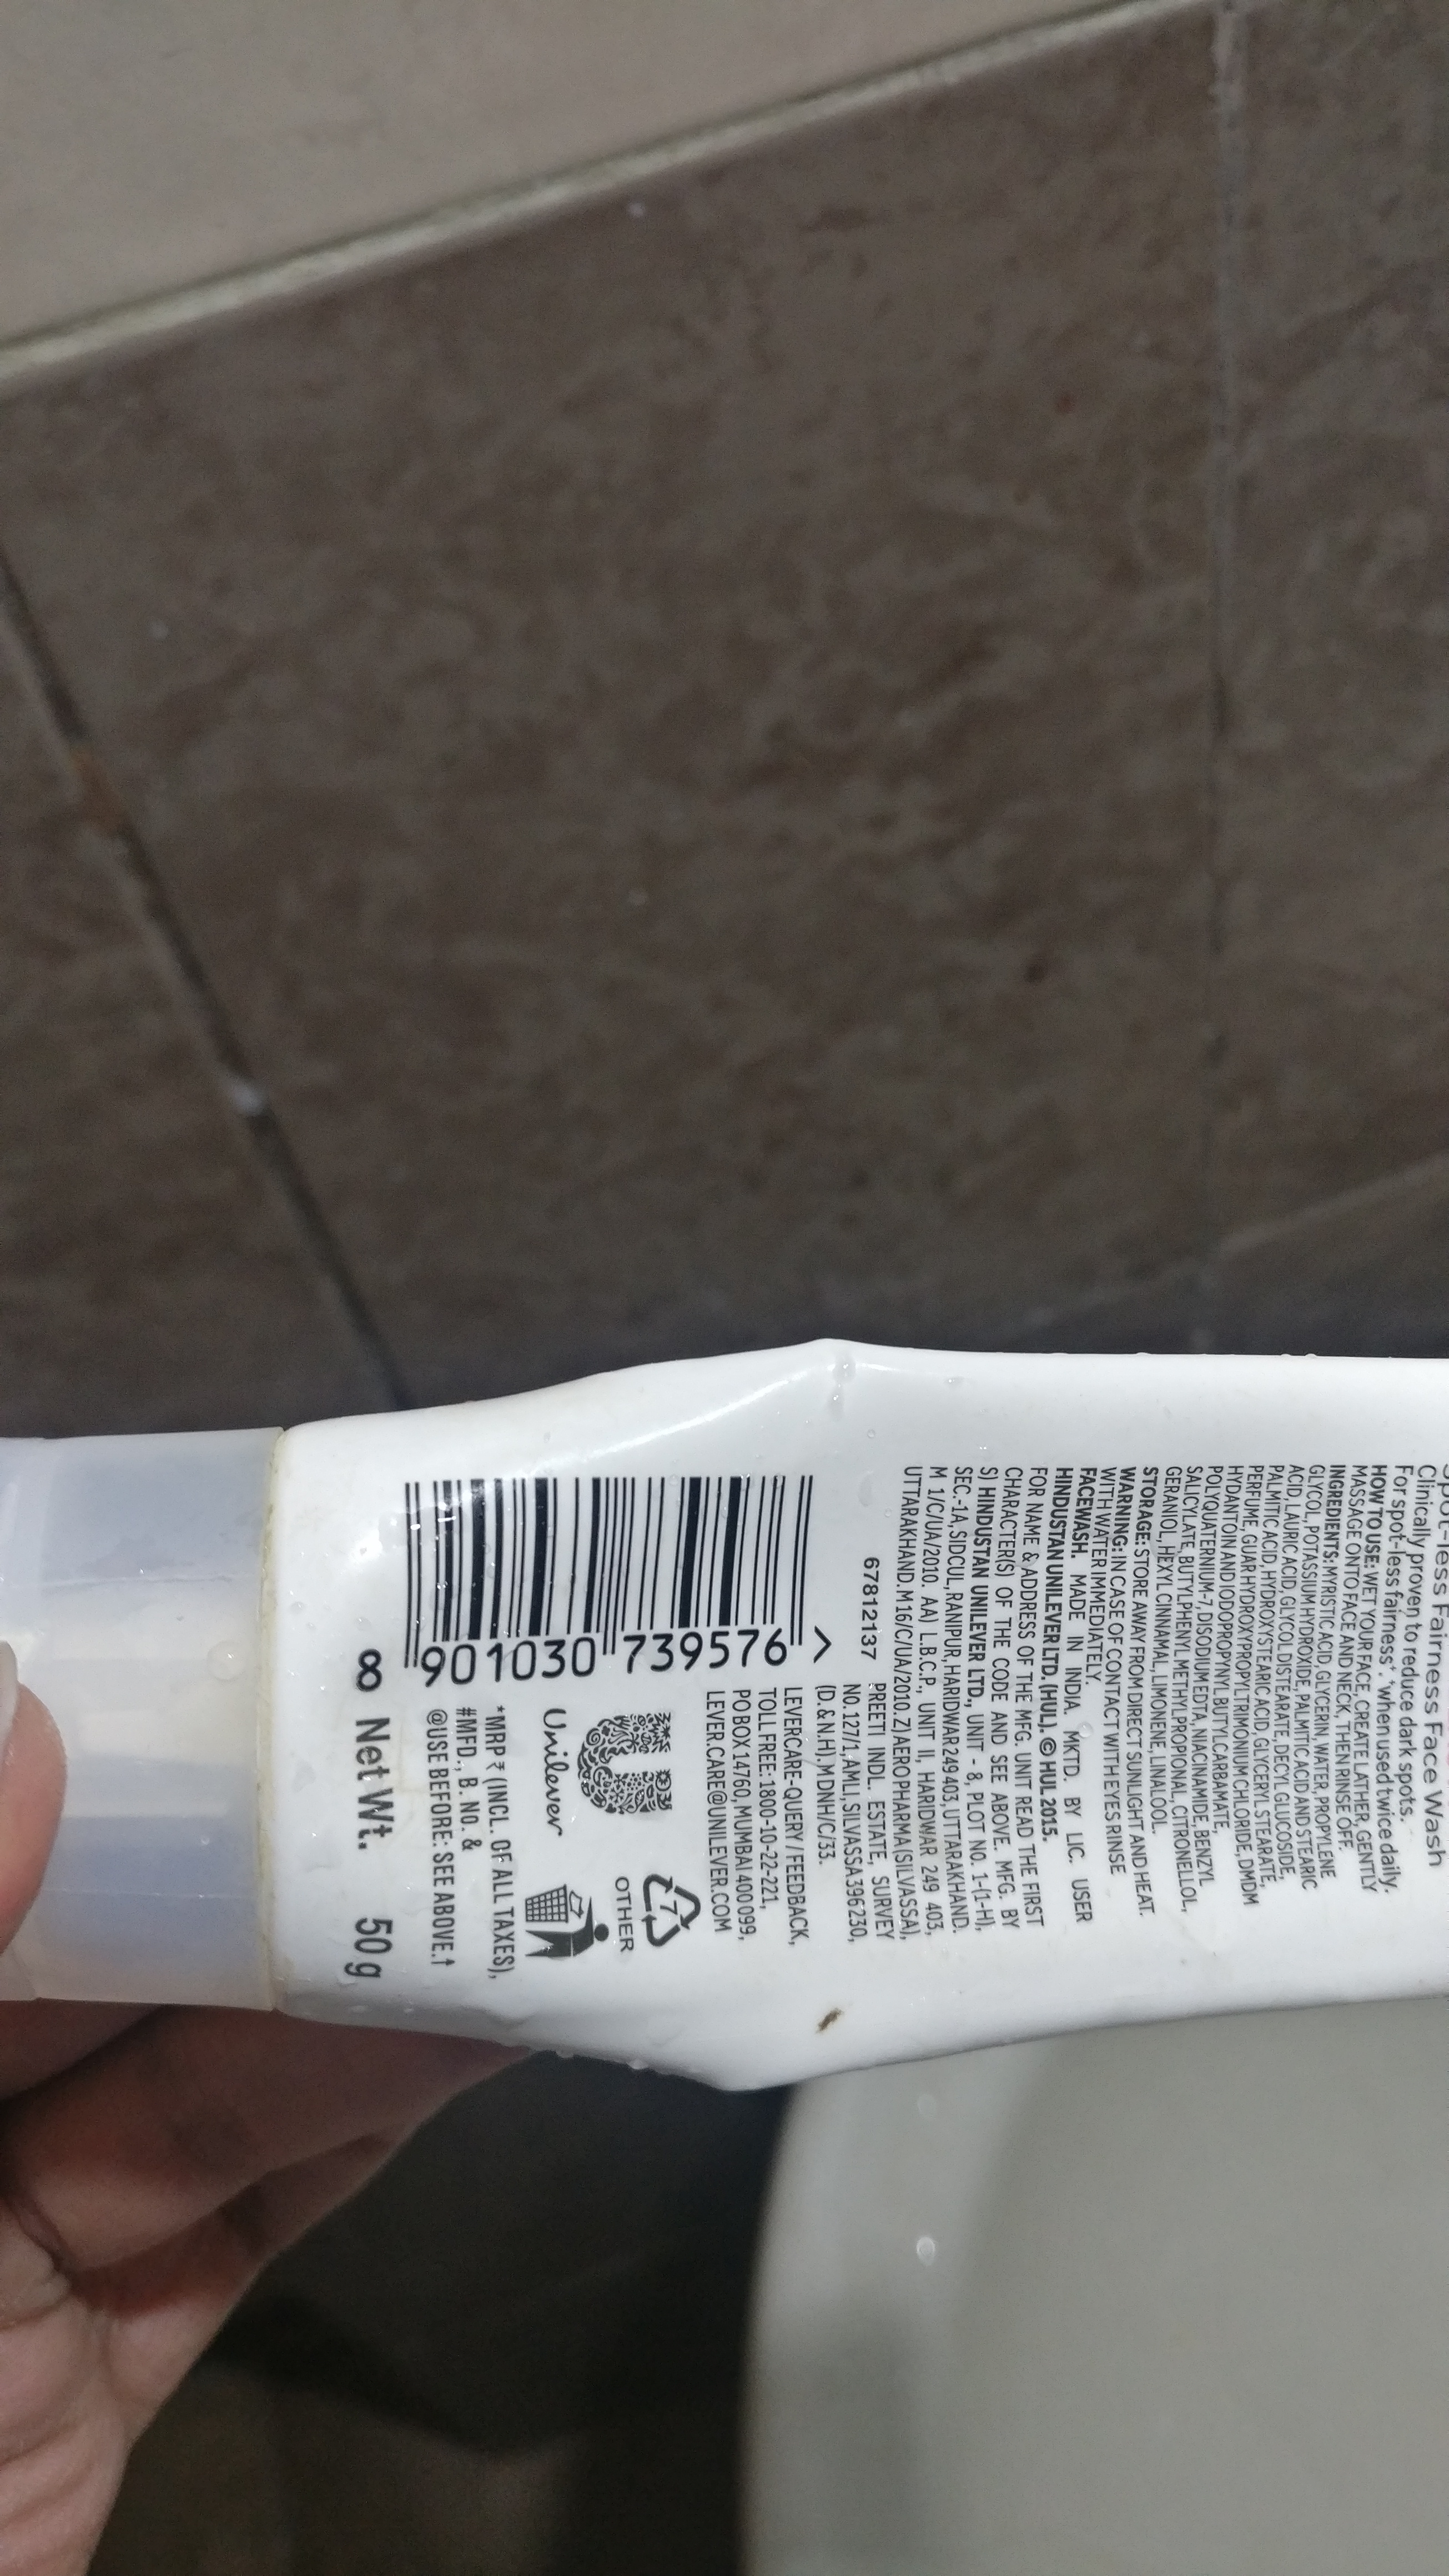barcode: (387, 1458, 828, 1688)
